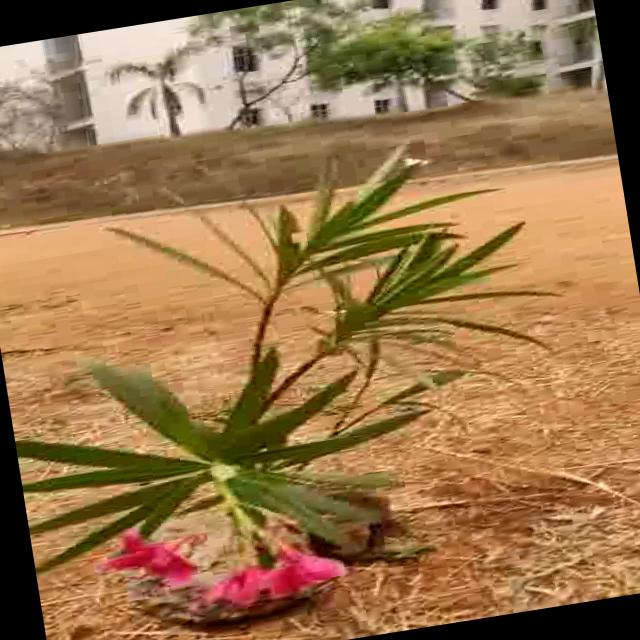Oleander: (0, 127, 600, 637)
